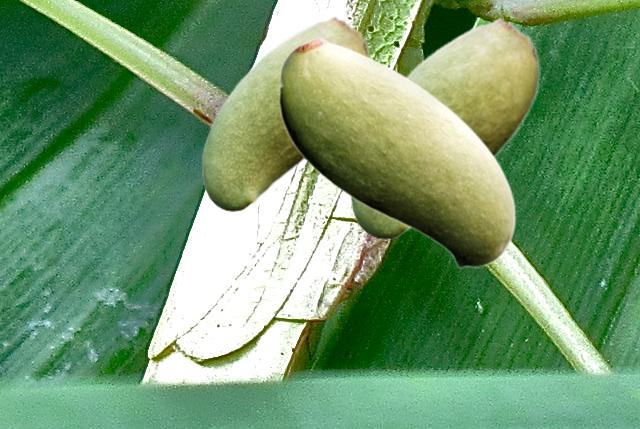green_mango: (278, 35, 515, 268), (349, 17, 539, 238), (201, 15, 369, 210)
